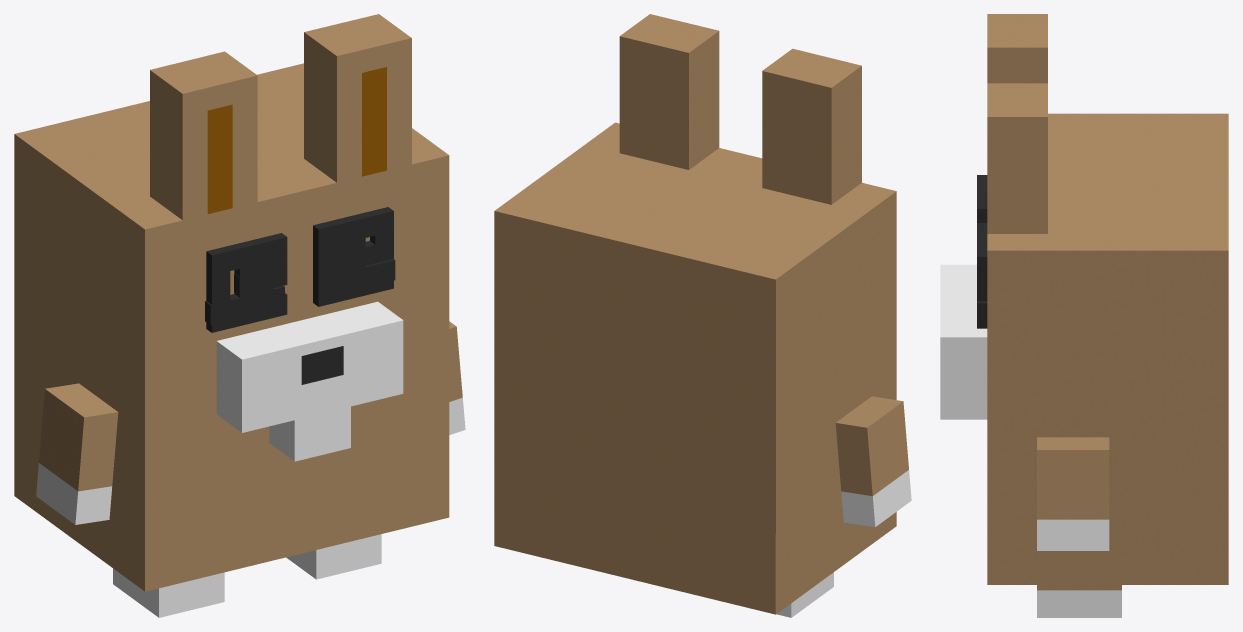
The picture shows the model from 3 angles, left to right: view 1: azimuth 30°, elevation 25°; view 2: azimuth 150°, elevation 25°; view 3: azimuth 270°, elevation 25°; orthographic projection. The views are drawn at different scales.
Visible parts, largest first — view 1: Ch_26, Ch_26_Ear, Ch_26_Hand_L, Ch_26_Eye_03_R, Ch_26_Eye_03_L, Ch_26_Leg_L, Ch_26_Leg_R, Ch_26_Hand_R; view 2: Ch_26, Ch_26_Ear, Ch_26_Hand_L, Ch_26_Leg_L; view 3: Ch_26, Ch_26_Ear, Ch_26_Hand_R, Ch_26_Leg_R, Ch_26_Eye_03_R, Ch_26_Eye_03_L.
Boxes of the visible parts, x1=… form: Ch_26: x1=14, y1=63, x2=449, y2=591; Ch_26_Ear: x1=150, y1=14, x2=411, y2=220; Ch_26_Hand_L: x1=36, y1=383, x2=118, y2=524; Ch_26_Eye_03_R: x1=313, y1=207, x2=393, y2=306; Ch_26_Eye_03_L: x1=206, y1=233, x2=287, y2=332; Ch_26_Leg_L: x1=113, y1=568, x2=224, y2=617; Ch_26_Leg_R: x1=286, y1=534, x2=381, y2=579; Ch_26_Hand_R: x1=449, y1=321, x2=465, y2=434; Ch_26: x1=494, y1=122, x2=896, y2=614; Ch_26_Ear: x1=619, y1=14, x2=861, y2=204; Ch_26_Hand_L: x1=835, y1=396, x2=911, y2=527; Ch_26_Leg_L: x1=777, y1=572, x2=833, y2=617; Ch_26: x1=940, y1=113, x2=1228, y2=584; Ch_26_Ear: x1=987, y1=14, x2=1047, y2=233; Ch_26_Hand_R: x1=1037, y1=437, x2=1109, y2=550; Ch_26_Leg_R: x1=1037, y1=585, x2=1121, y2=617; Ch_26_Eye_03_R: x1=977, y1=223, x2=987, y2=328; Ch_26_Eye_03_L: x1=977, y1=175, x2=987, y2=222.
Size of the model in its own units: 8.64 by 11.53 by 5.99.
